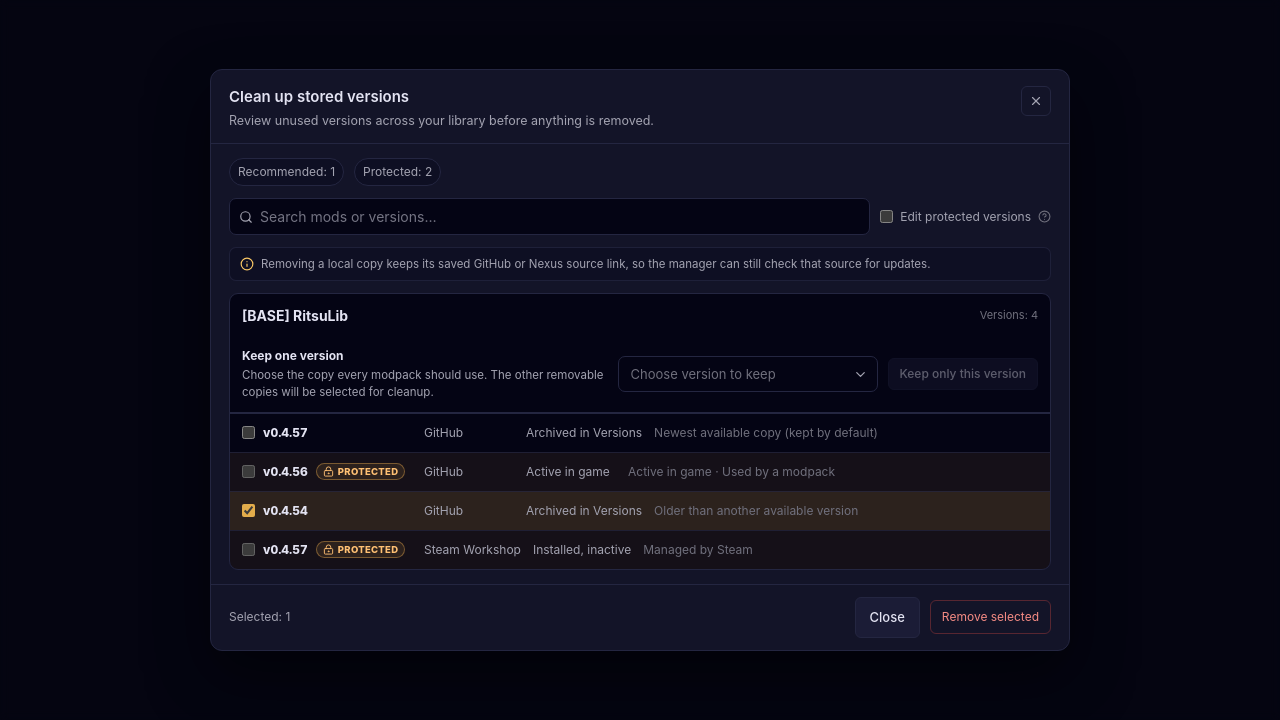
Scenario: <VersionCleanupModal> › keeps the cleanup result visible when removing the last reviewable family
Expected: the text "[BASE] RitsuLib" is shown, [242,305,348,326]
Step 1. Click the button "Remove selected" → click(990, 617), box [930,600,1051,634]
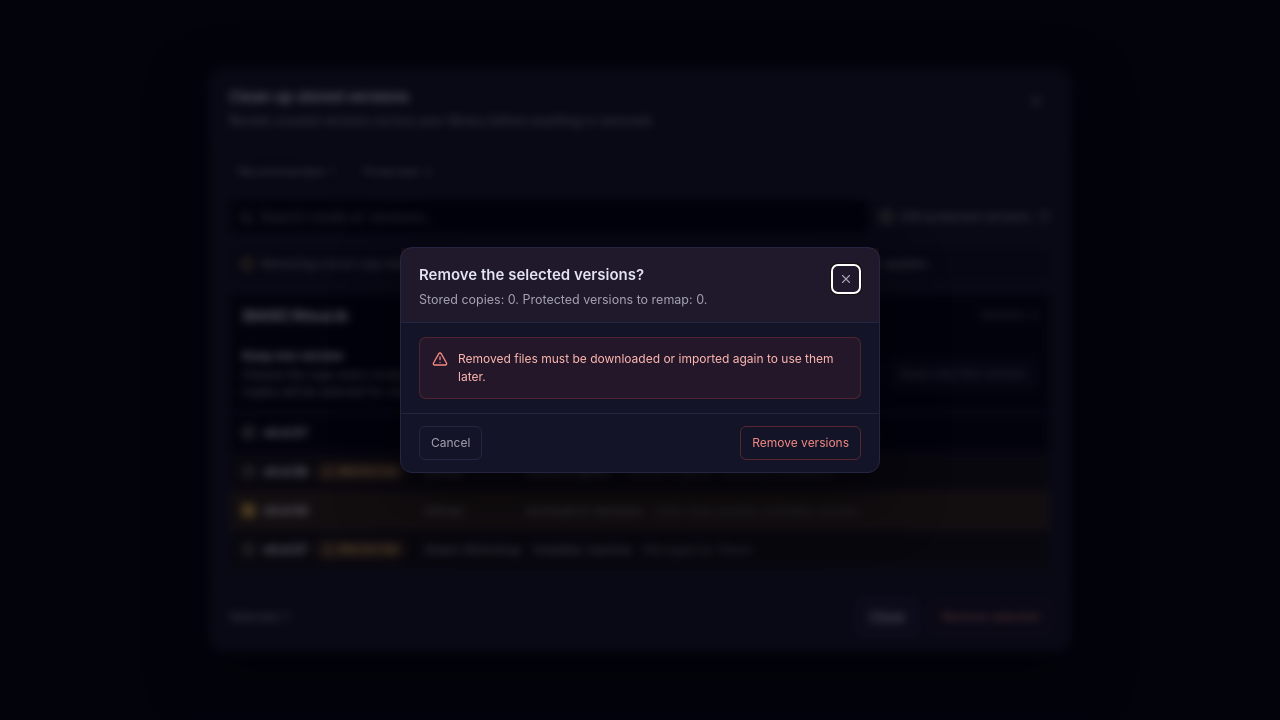
Step 2. Click the button "Remove versions" → click(801, 443), box [740,426,861,460]
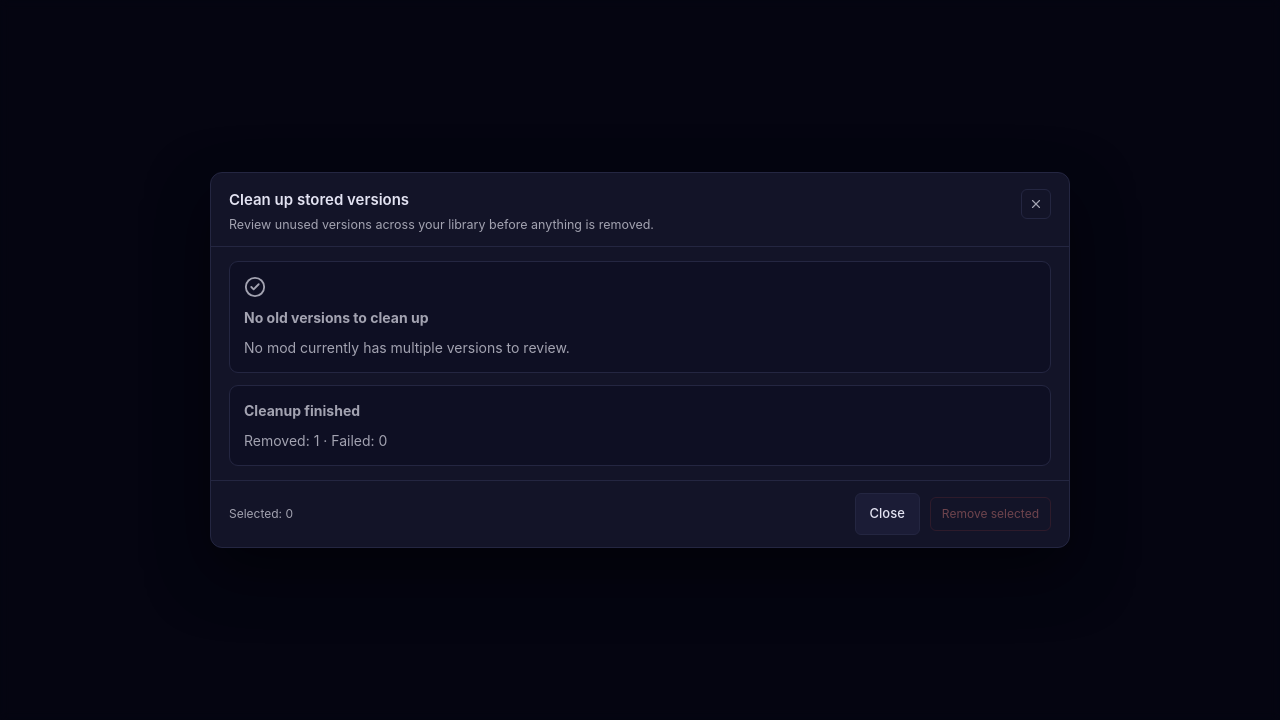
Expected: the text "Removed: 1 · Failed: 0" is shown, [244,430,387,451]
Expected: the text "No mod currently has multiple versions to review." is shown, [244,337,570,358]
